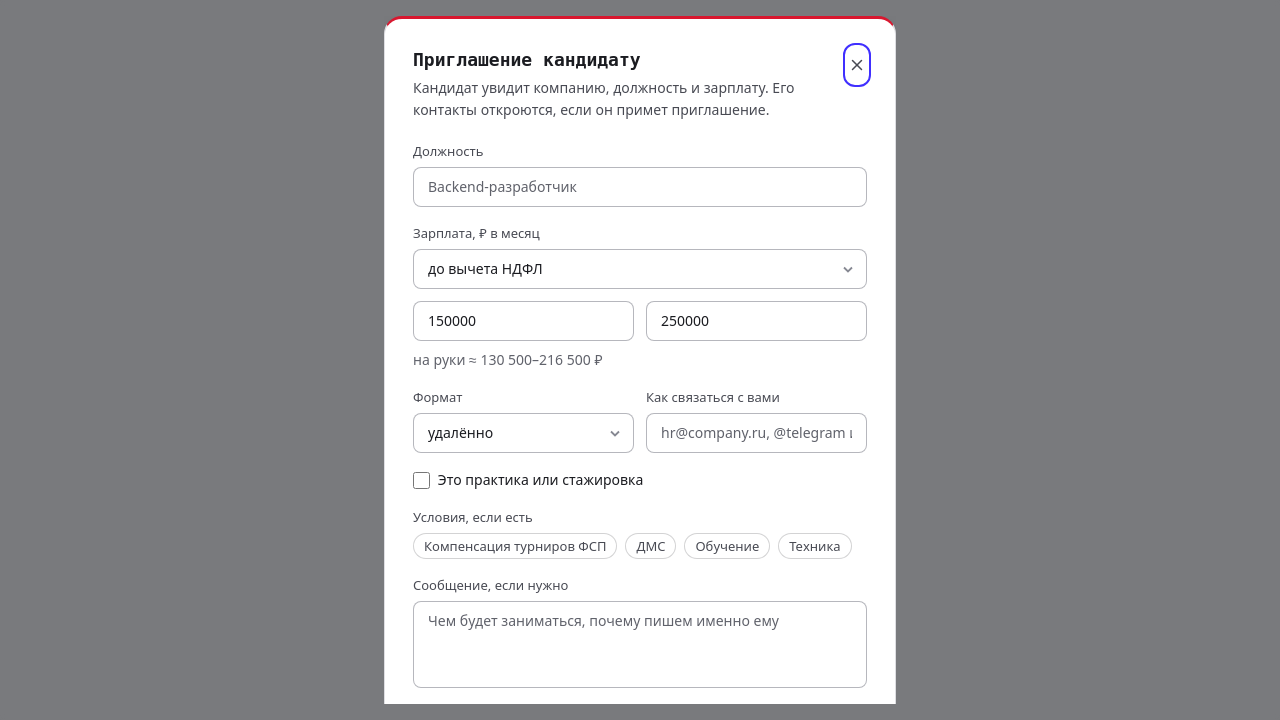
Test: приглашение › включает кнопку, когда вилка снова целая
This screenshot has width=1280, height=720.
Replace the text in the number field named "От" with "180000" at [524, 321], box [413,301,634,341]
(page scrolled)
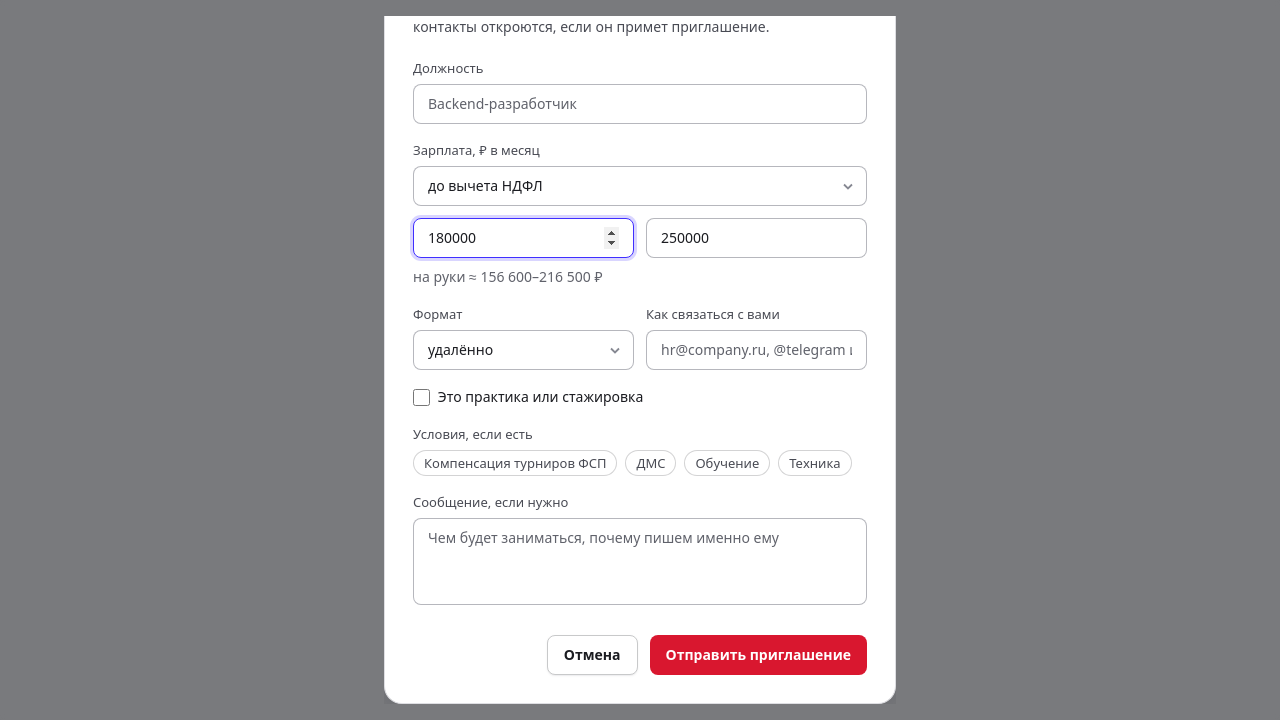
Now the button "Отправить приглашение" is enabled, box [650,635,867,675]
